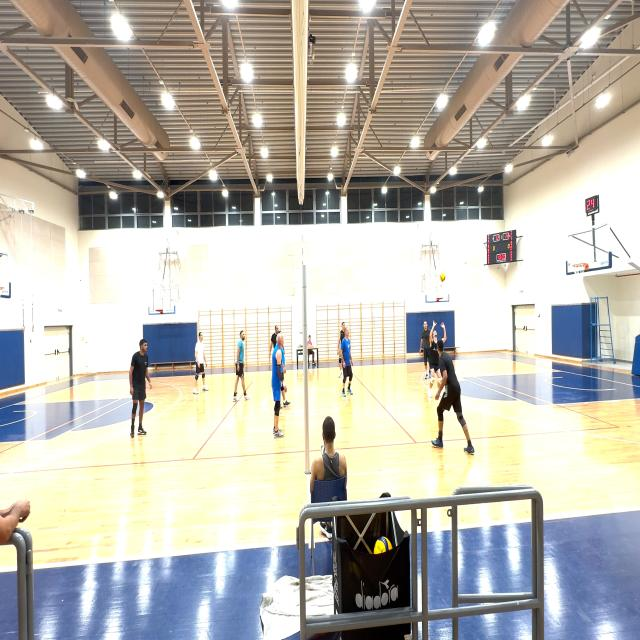volleyball: (373, 536, 392, 555), (440, 273, 445, 282)
